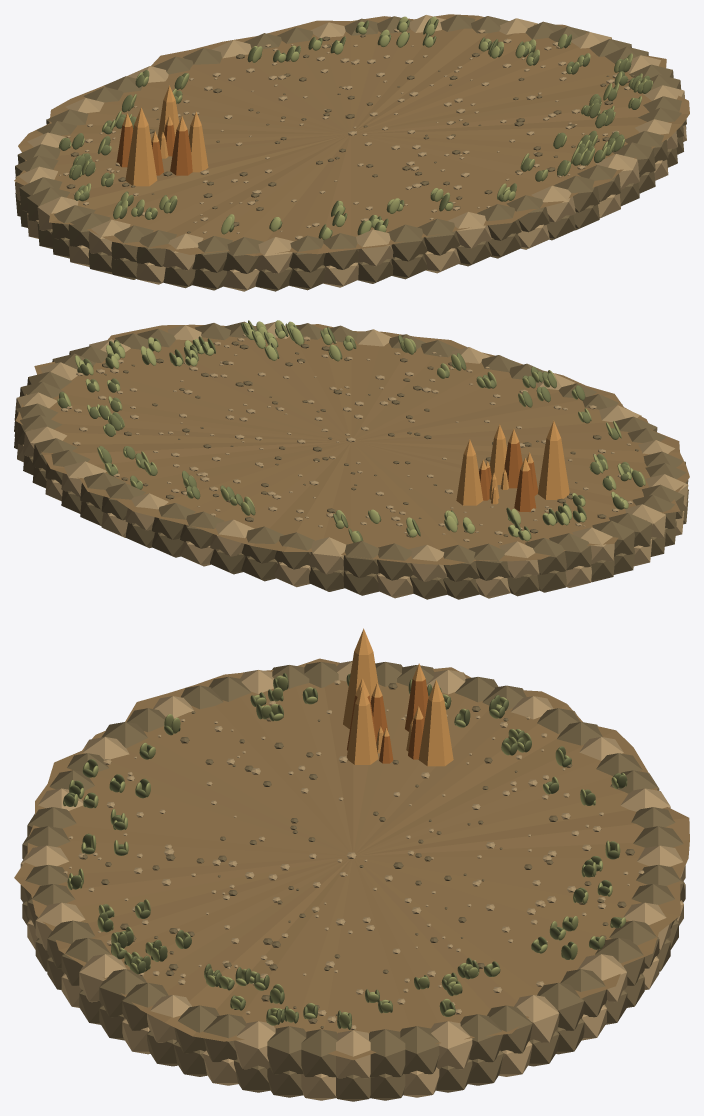
The model's file is environment.glb.
3 views of the same model, one above another, from view 1: azimuth 30°, elevation 25°; view 2: azimuth 150°, elevation 25°; view 3: azimuth 270°, elevation 25° (orthographic). The views are drawn at different scales.
Parts seen in each view (by area): view 1: Soil cap, Amber crystal.006, Layered edge stone.043, Layered edge stone.039, Layered edge stone.044, Layered edge stone.042, Layered edge stone.045, Layered edge stone.038, Layered edge stone.041, Layered edge stone.037, Layered edge stone.040, Layered edge stone.048 (+49 smaller); view 2: Soil cap, Amber crystal.006, Layered edge stone.018, Layered edge stone.019, Amber crystal.010, Layered edge stone.020, Layered edge stone.023, Layered edge stone.014, Layered edge stone.022, Layered edge stone.015, Layered edge stone.017, Layered edge stone.025 (+49 smaller); view 3: Soil cap, Amber crystal.010, Layered edge stone.001, Layered edge stone.059, Layered edge stone.058, Layered edge stone.002, Layered edge stone.003, Layered edge stone.057, Amber crystal.002, Layered edge stone, Layered edge stone.004, Layered edge stone.005 (+43 smaller).
Part boxes in pixels (left/top/right/bottom): Soil cap: left=14, top=14, right=689, bottom=256; Amber crystal.006: left=125, top=125, right=157, bottom=186; Layered edge stone.043: left=387, top=224, right=427, bottom=261; Layered edge stone.039: left=255, top=237, right=293, bottom=273; Layered edge stone.044: left=417, top=218, right=459, bottom=255; Layered edge stone.042: left=356, top=229, right=393, bottom=266; Layered edge stone.045: left=448, top=211, right=491, bottom=248; Layered edge stone.038: left=223, top=237, right=263, bottom=273; Layered edge stone.041: left=323, top=233, right=358, bottom=269; Layered edge stone.037: left=192, top=236, right=232, bottom=272; Layered edge stone.040: left=289, top=235, right=325, bottom=272; Layered edge stone.048: left=531, top=185, right=575, bottom=222; Soil cap: left=15, top=324, right=689, bottom=565; Amber crystal.006: left=538, top=438, right=569, bottom=499; Layered edge stone.018: left=309, top=537, right=346, bottom=574; Layered edge stone.019: left=343, top=541, right=379, bottom=577; Amber crystal.010: left=456, top=454, right=483, bottom=505; Layered edge stone.020: left=377, top=543, right=413, bottom=580; Layered edge stone.023: left=469, top=543, right=510, bottom=580; Layered edge stone.014: left=180, top=511, right=224, bottom=548; Layered edge stone.022: left=440, top=545, right=479, bottom=581; Layered edge stone.015: left=210, top=519, right=254, bottom=556; Layered edge stone.017: left=274, top=532, right=314, bottom=569; Layered edge stone.025: left=525, top=538, right=566, bottom=574; Soil cap: left=14, top=658, right=689, bottom=1060; Amber crystal.010: left=418, top=699, right=453, bottom=766; Layered edge stone.001: left=369, top=1029, right=405, bottom=1077; Layered edge stone.059: left=301, top=1029, right=337, bottom=1077; Layered edge stone.058: left=267, top=1026, right=306, bottom=1074; Layered edge stone.002: left=400, top=1026, right=439, bottom=1074; Layered edge stone.003: left=431, top=1021, right=472, bottom=1069; Layered edge stone.057: left=234, top=1021, right=275, bottom=1069; Amber crystal.002: left=346, top=703, right=378, bottom=764; Layered edge stone: left=336, top=1030, right=370, bottom=1078; Layered edge stone.004: left=460, top=1014, right=502, bottom=1062; Layered edge stone.005: left=487, top=1005, right=532, bottom=1053.
Size of the model in its own units: 13.5 by 2.47 by 9.59.
